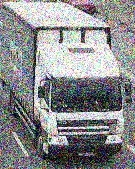truck: (6, 3, 125, 162)
